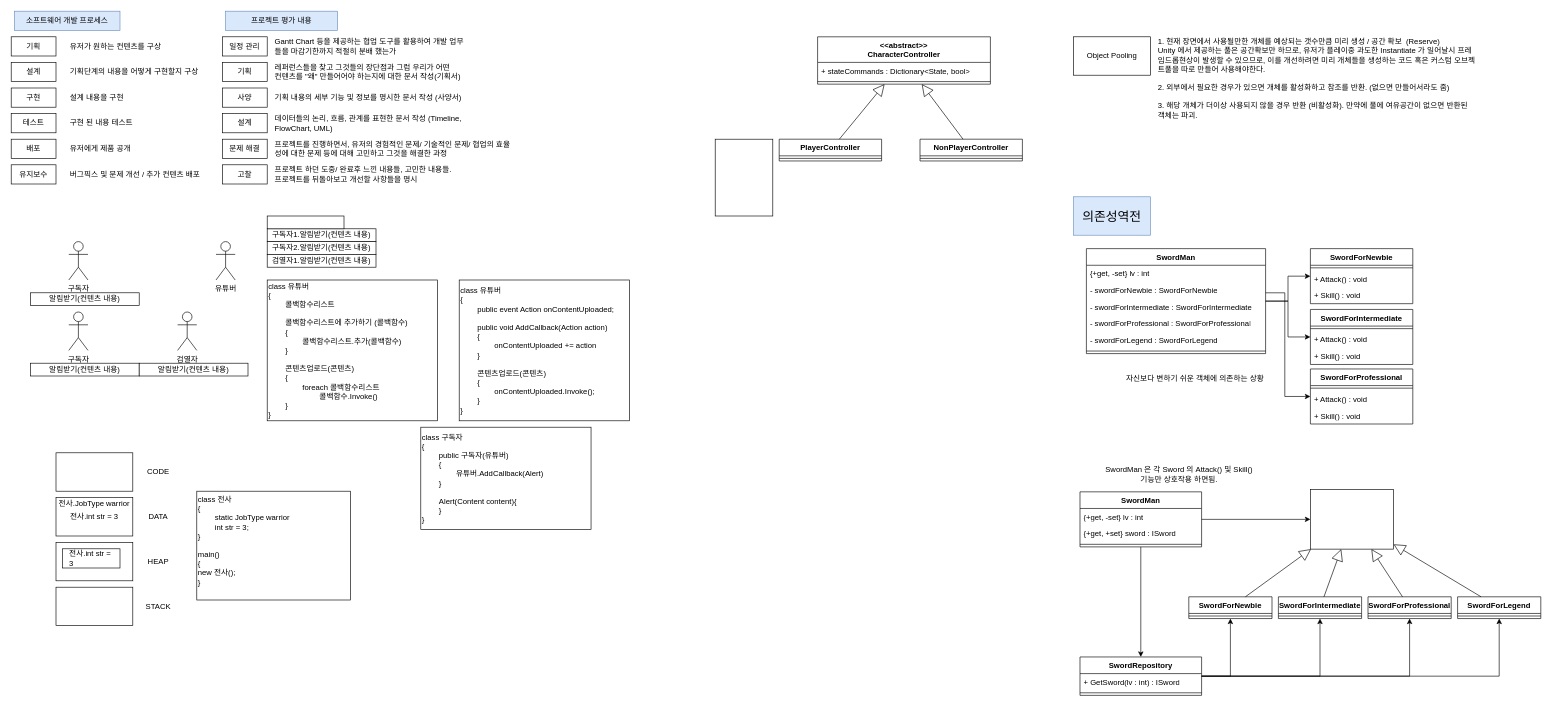
Some shapes in this 1552 by 707 pixel diagram are drawn without their labels. Here are the shapes that lost their labels. From the top down, the centre of each, then its label:
At point (744, 177): "«enum» State Move Jump Fall".
At point (305, 222): "콜백 함수 리스트".
At point (1352, 519): "«interface» ISword Attack() : void Skill() : void".
